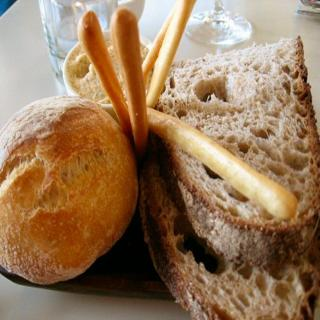Bread: (140, 35, 319, 319), (3, 91, 138, 289)
